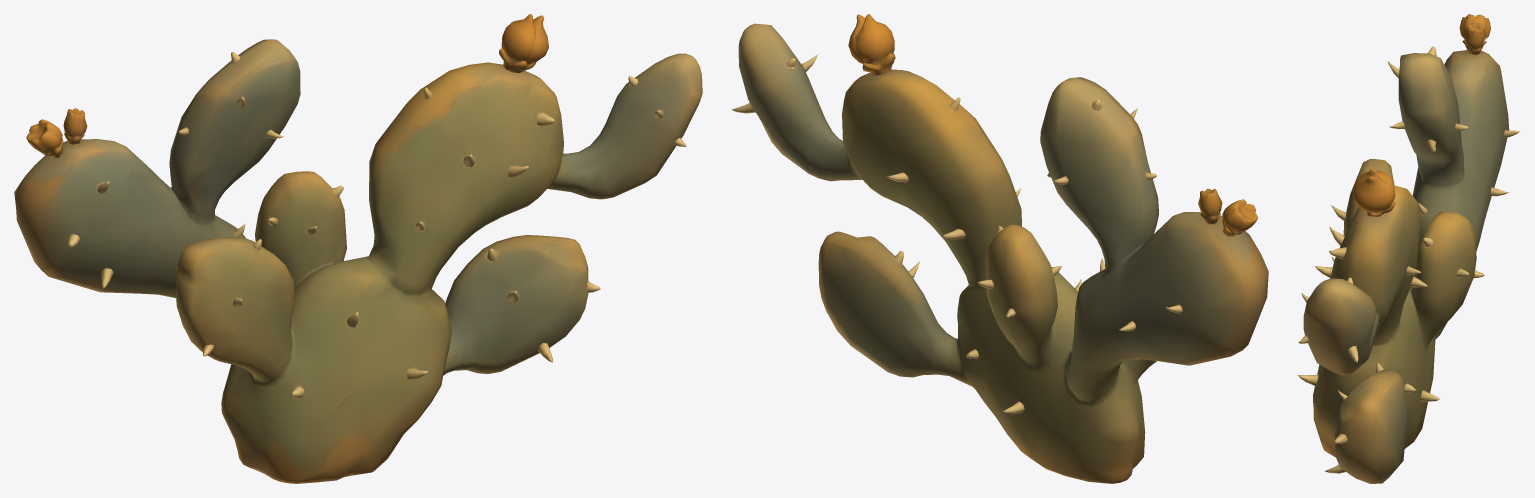
The model's file is prickly-pear.glb.
3 views of the same model, side by side, from view 1: azimuth 30°, elevation 25°; view 2: azimuth 150°, elevation 25°; view 3: azimuth 270°, elevation 25° (orthographic). The views are drawn at different scales.
Visible parts, largest first — view 1: tripo_node_7dd1801f-b148-4fc1-92e9-9545d8ae72f2; view 2: tripo_node_7dd1801f-b148-4fc1-92e9-9545d8ae72f2; view 3: tripo_node_7dd1801f-b148-4fc1-92e9-9545d8ae72f2.
Part boxes in pixels (left/top/right/bottom): tripo_node_7dd1801f-b148-4fc1-92e9-9545d8ae72f2: left=14, top=14, right=702, bottom=483; tripo_node_7dd1801f-b148-4fc1-92e9-9545d8ae72f2: left=731, top=14, right=1268, bottom=483; tripo_node_7dd1801f-b148-4fc1-92e9-9545d8ae72f2: left=1298, top=14, right=1519, bottom=483.
Bounding box in the file's own units: 0.9995 × 0.644 × 0.3472.
Materials: 1 (1 with a texture image).
